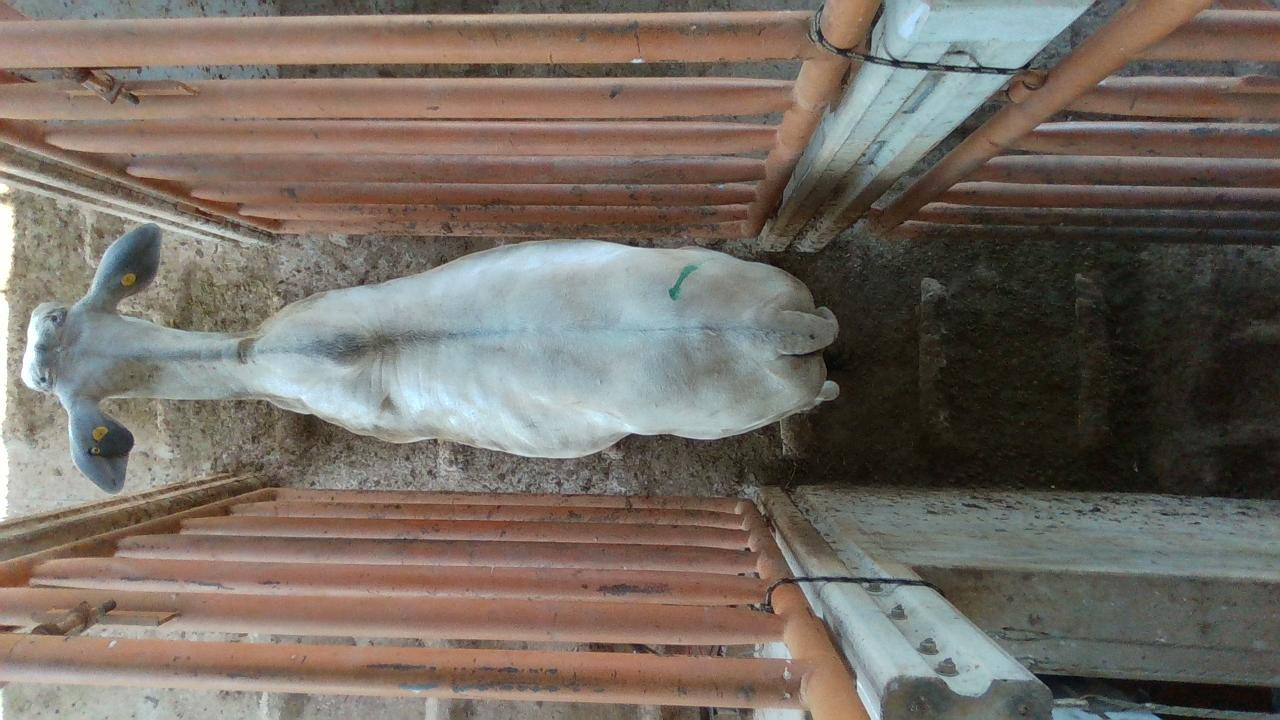cattle: (20, 222, 842, 492)
